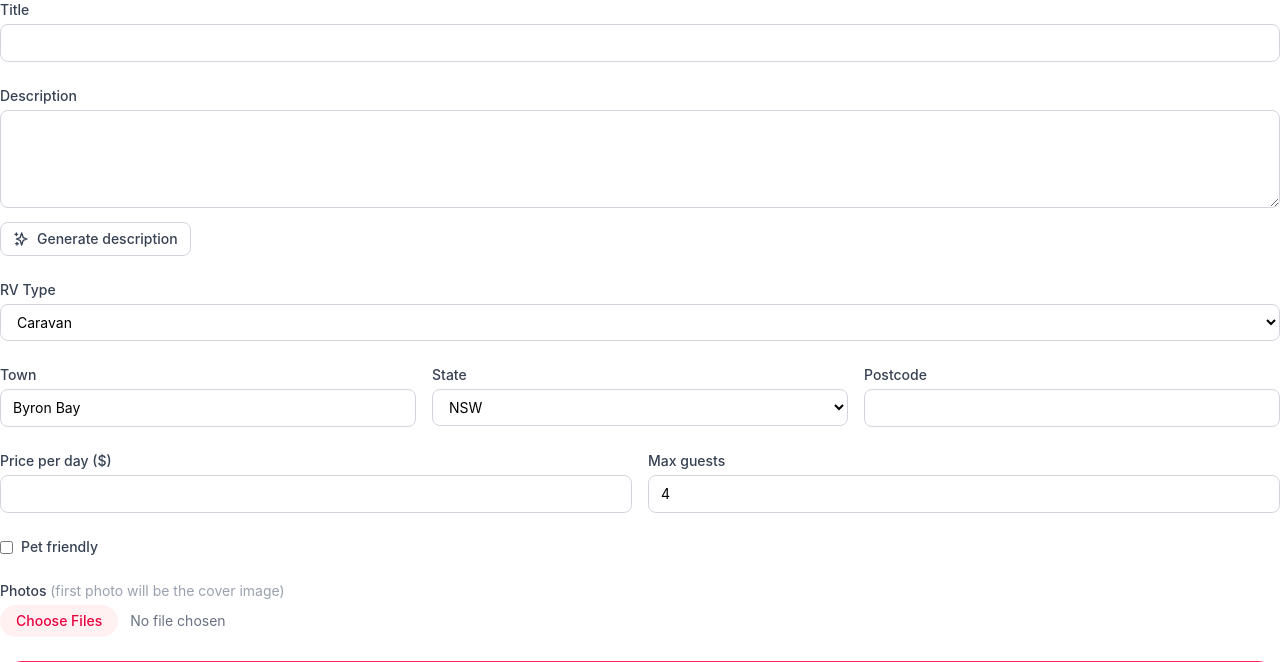
Test case: ListingForm › Generate description button › shows the API error near the Generate button, not in the form-submit error banner
Click the button "Generate description". click: click(95, 239)
box: x1=0 y1=222 x2=191 y2=256
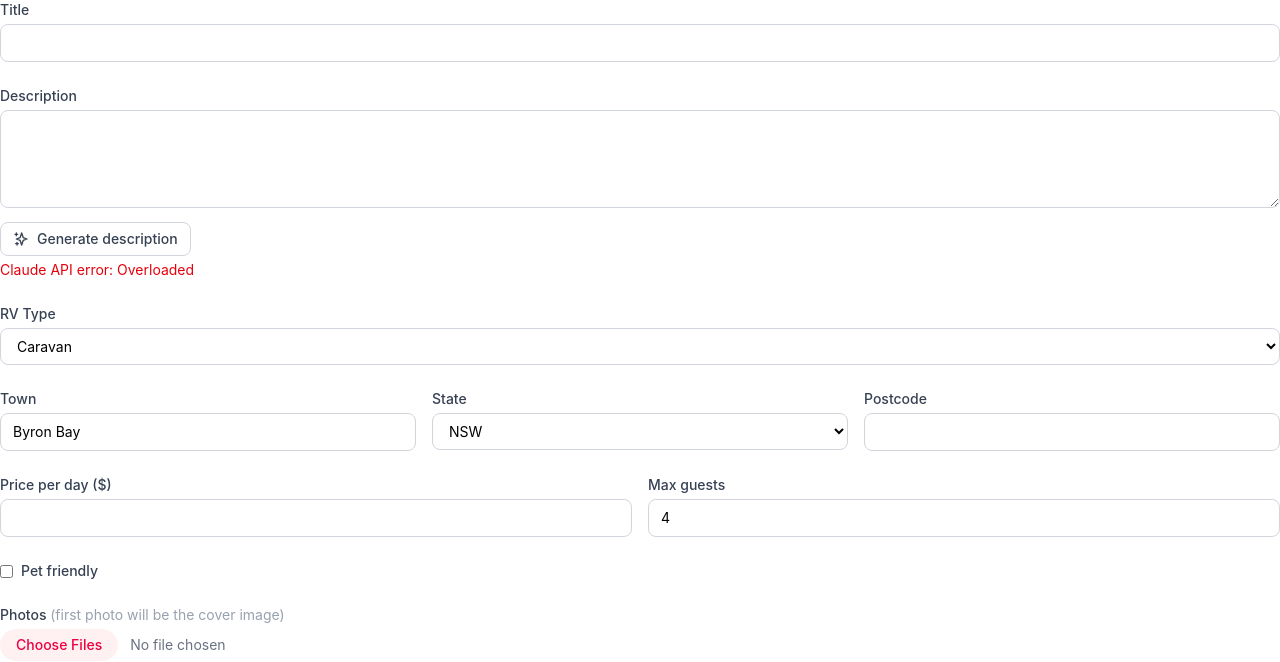
Expected: the text "Claude API error: Overloaded" is shown, x1=0 y1=261 x2=194 y2=278
